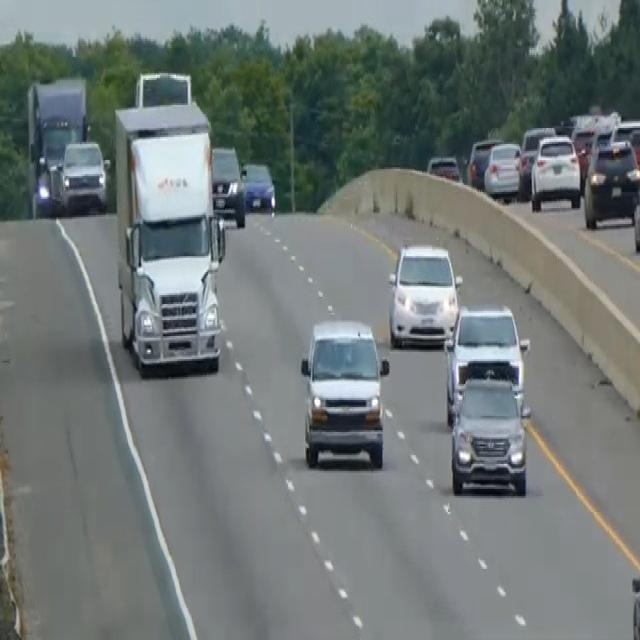car: (443, 302, 529, 423), (449, 372, 530, 496), (386, 240, 462, 348), (583, 137, 639, 227), (530, 132, 581, 212), (59, 137, 108, 211), (210, 142, 246, 228), (518, 122, 556, 196), (483, 139, 522, 201), (240, 158, 276, 214), (465, 135, 501, 189), (426, 151, 460, 181), (631, 185, 639, 252)
lorry: (112, 71, 230, 377)
minivan: (297, 313, 390, 471)
